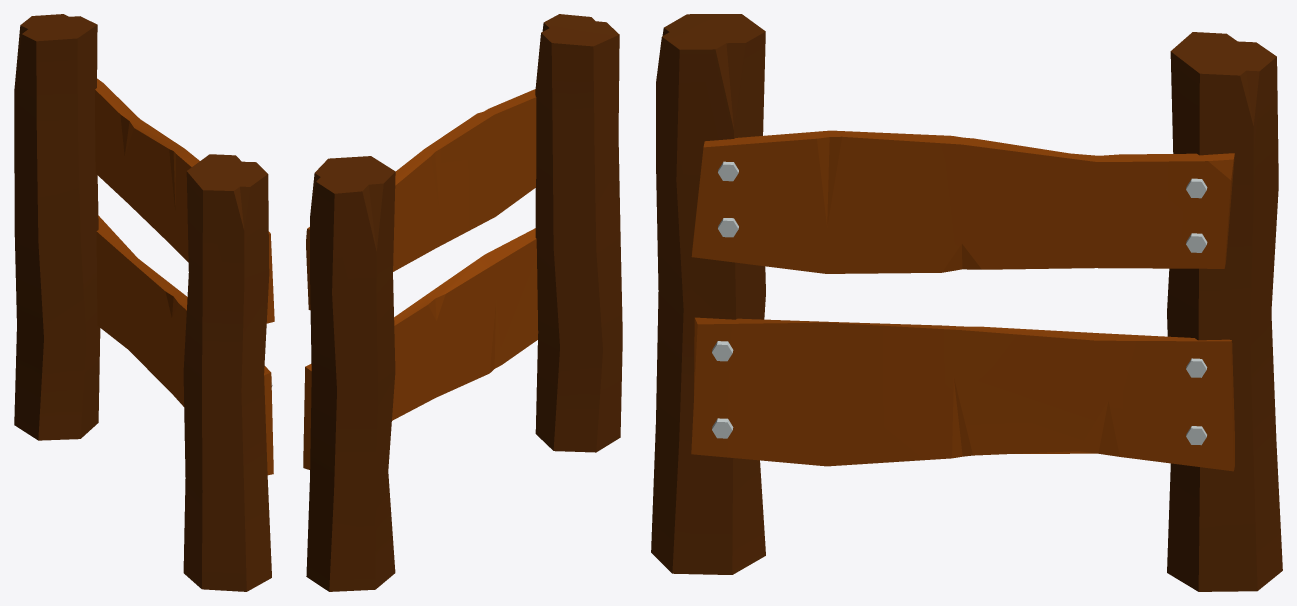
Rendered from Fence_Colored.fbx.
3 views of the same model, side by side, from view 1: azimuth 30°, elevation 25°; view 2: azimuth 150°, elevation 25°; view 3: azimuth 270°, elevation 25° (orthographic). The views are drawn at different scales.
Visible parts, largest first — view 1: pCylinder1, pCylinder2, pCube2, pCube1; view 2: pCylinder1, pCylinder2, pCube2, pCube1; view 3: pCube2, pCube1, pCylinder2, pCylinder1.
Boxes of the visible parts, x1=… form: pCylinder1: x1=183, y1=154, x2=271, y2=591; pCylinder2: x1=14, y1=14, x2=100, y2=440; pCube2: x1=96, y1=215, x2=273, y2=475; pCube1: x1=95, y1=78, x2=274, y2=323; pCylinder1: x1=535, y1=14, x2=622, y2=452; pCylinder2: x1=306, y1=156, x2=395, y2=591; pCube2: x1=303, y1=228, x2=538, y2=469; pCube1: x1=306, y1=89, x2=536, y2=310; pCube2: x1=691, y1=317, x2=1234, y2=471; pCube1: x1=691, y1=130, x2=1234, y2=273; pCylinder2: x1=1167, y1=32, x2=1282, y2=591; pCylinder1: x1=651, y1=14, x2=765, y2=574.
Bounding box in the file's own units: 131 × 474 × 516.
